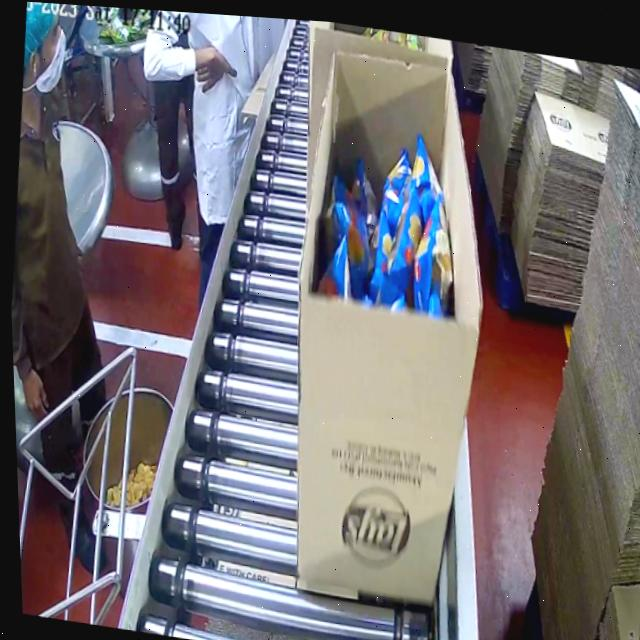PAPRIKA: (305, 119, 471, 318)
